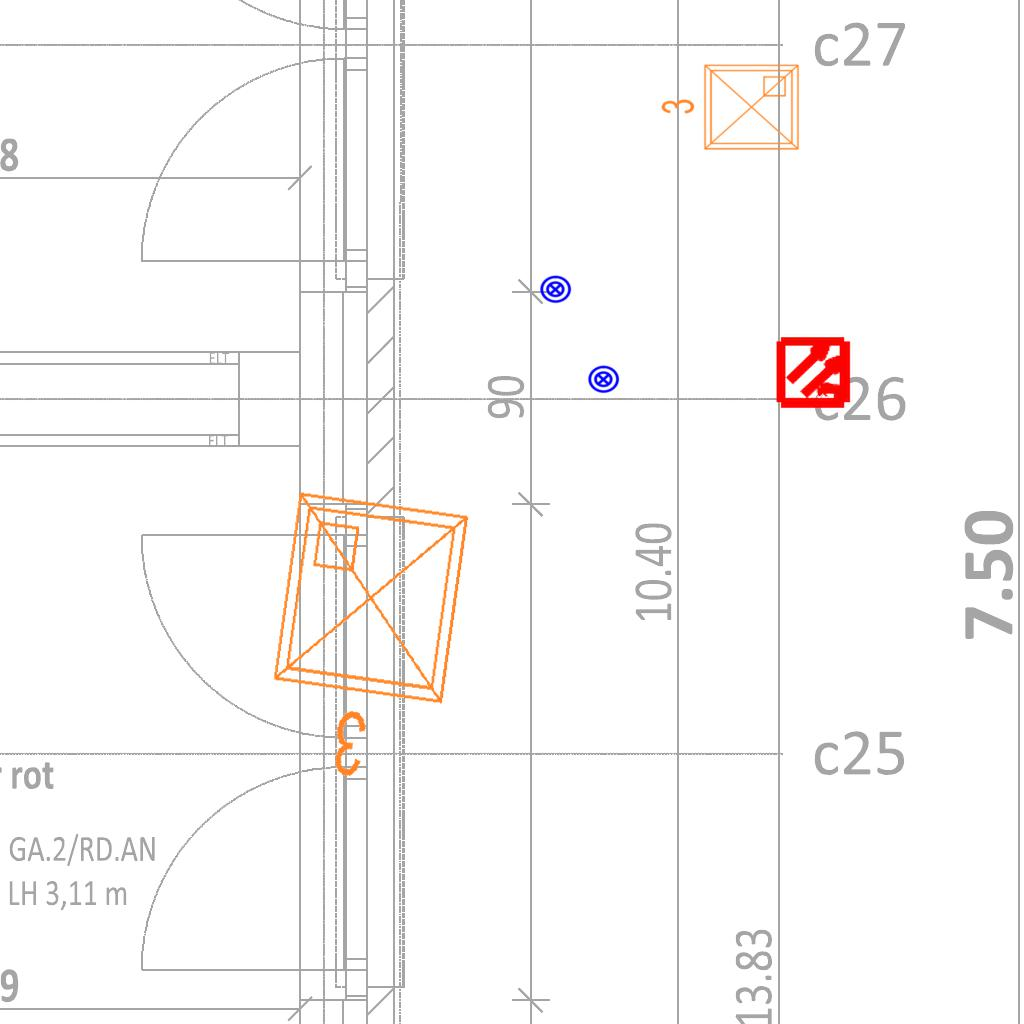Einbaudownlights_LED_Konferenzraeume: (245, 475, 493, 803), (656, 57, 806, 161)
OT_Multisensormelder_(Kombination_RMO_WMD): (759, 316, 872, 429)
Taster_beleuchtet: (587, 363, 620, 396), (539, 273, 572, 306)
